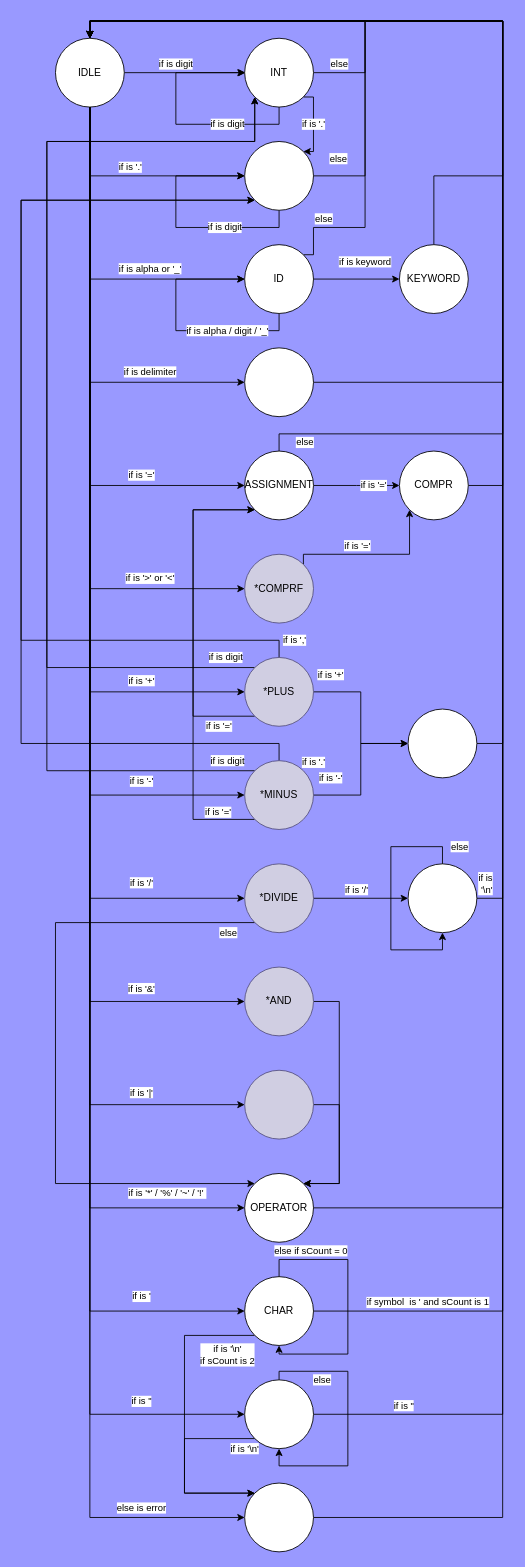
Image size: 525x1567. Some labels were removed from this diagram. Here are the shapes that lost their labels. From the top down, the centre of each, then its label:
At pixel 278 175: "FLOAT".
At pixel 278 382: "DELIM".
At pixel 442 743: "PPFIX".
At pixel 442 898: "SCOMMENT".
At pixel 278 1104: "*OR".
At pixel 278 1414: "STRING".
At pixel 278 1517: "ERROR".
